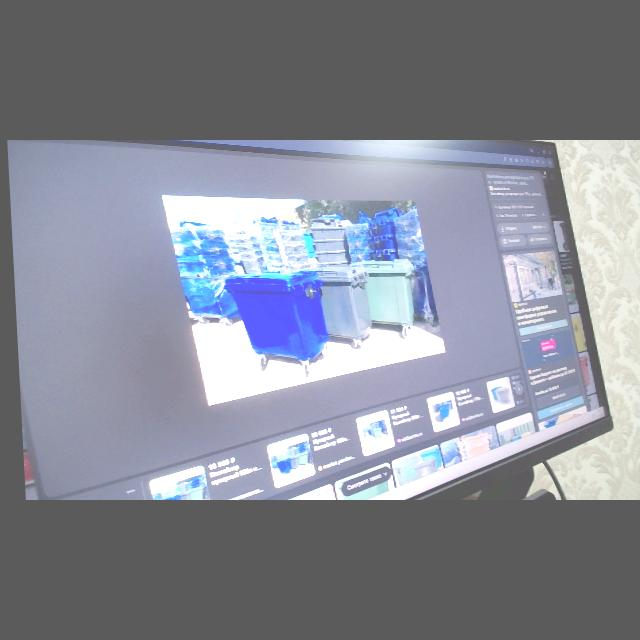Trash_Can_Closed: (220, 270, 327, 360), (296, 266, 370, 339), (346, 259, 414, 325)
